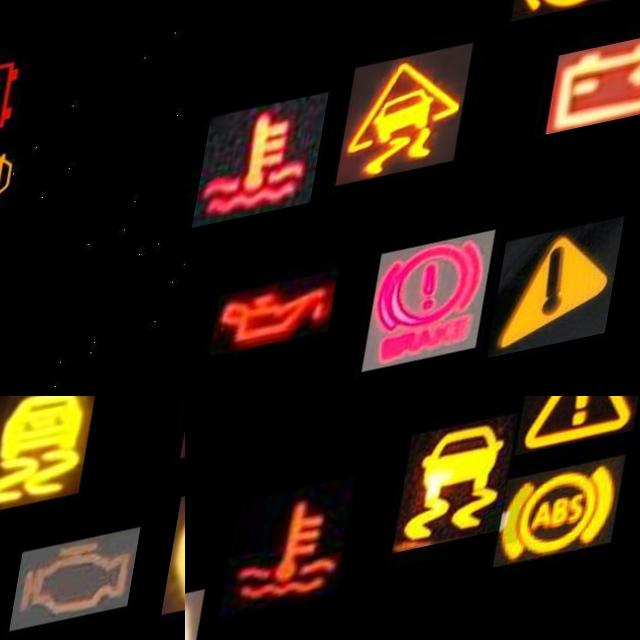Central Warning lamp: (508, 240, 640, 377), (530, 396, 640, 478)
Engine cooling system: (239, 491, 373, 629), (206, 101, 339, 232)
